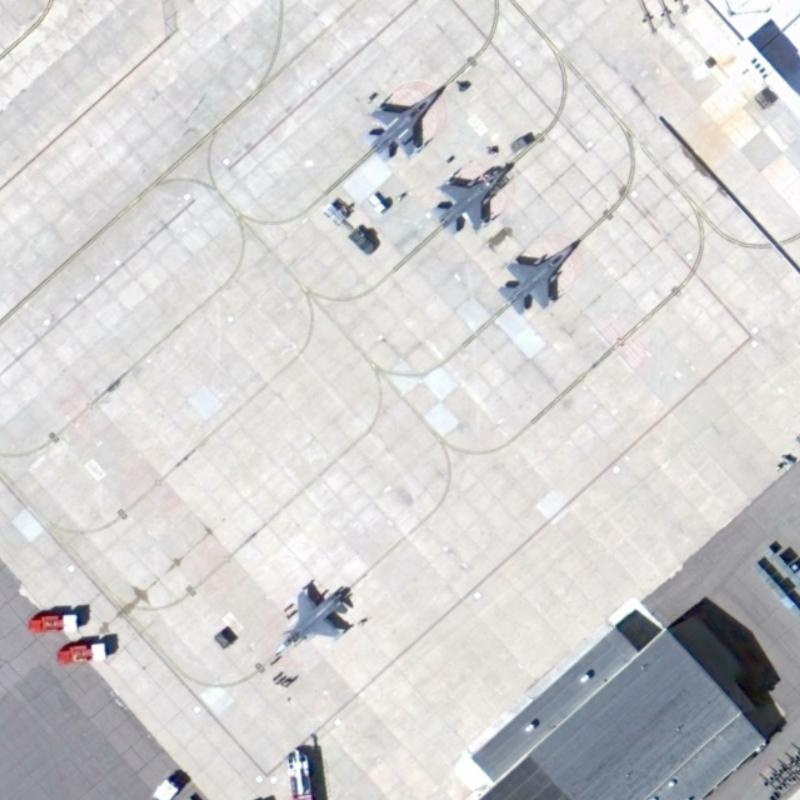A5: (266, 574, 361, 658), (492, 234, 584, 315), (431, 155, 517, 238), (367, 79, 441, 160)
